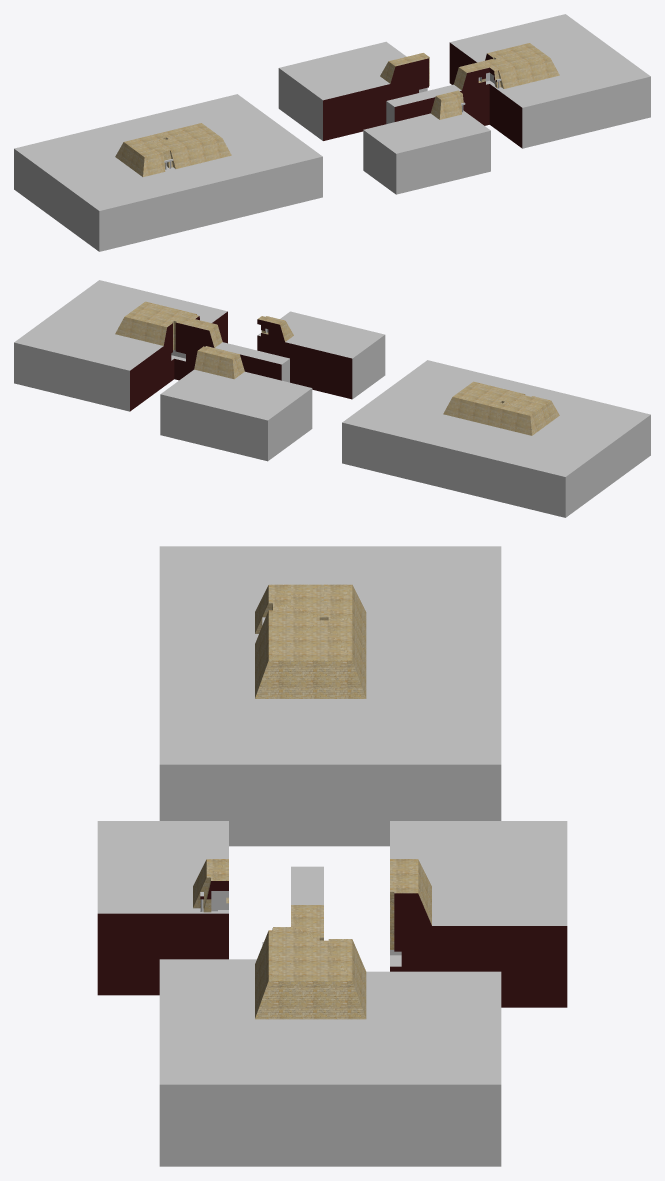
The model's file is Matsaba.fbx.
The picture shows the model from 3 angles, top to bottom: view 1: azimuth 30°, elevation 25°; view 2: azimuth 150°, elevation 25°; view 3: azimuth 270°, elevation 25°; orthographic projection. The views are drawn at different scales.
Parts seen in each view (by area): view 1: Brep (×17); view 2: Brep (×13); view 3: Brep (×12).
Boxes of the visible parts, <box> form: Brep (×17): <box>14,14,650,251</box>; Brep (×13): <box>14,280,650,517</box>; Brep (×12): <box>97,546,567,1166</box>.
Size of the model in its own units: 18582 by 6848 by 1838.
